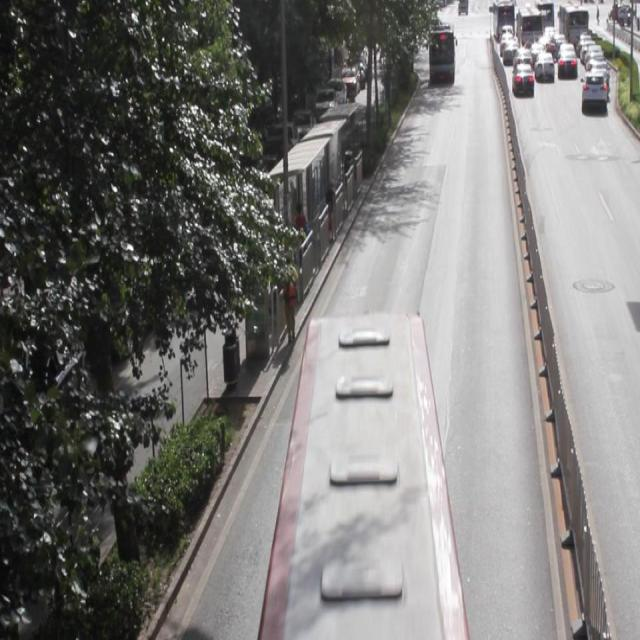van: (261, 315, 468, 640)
